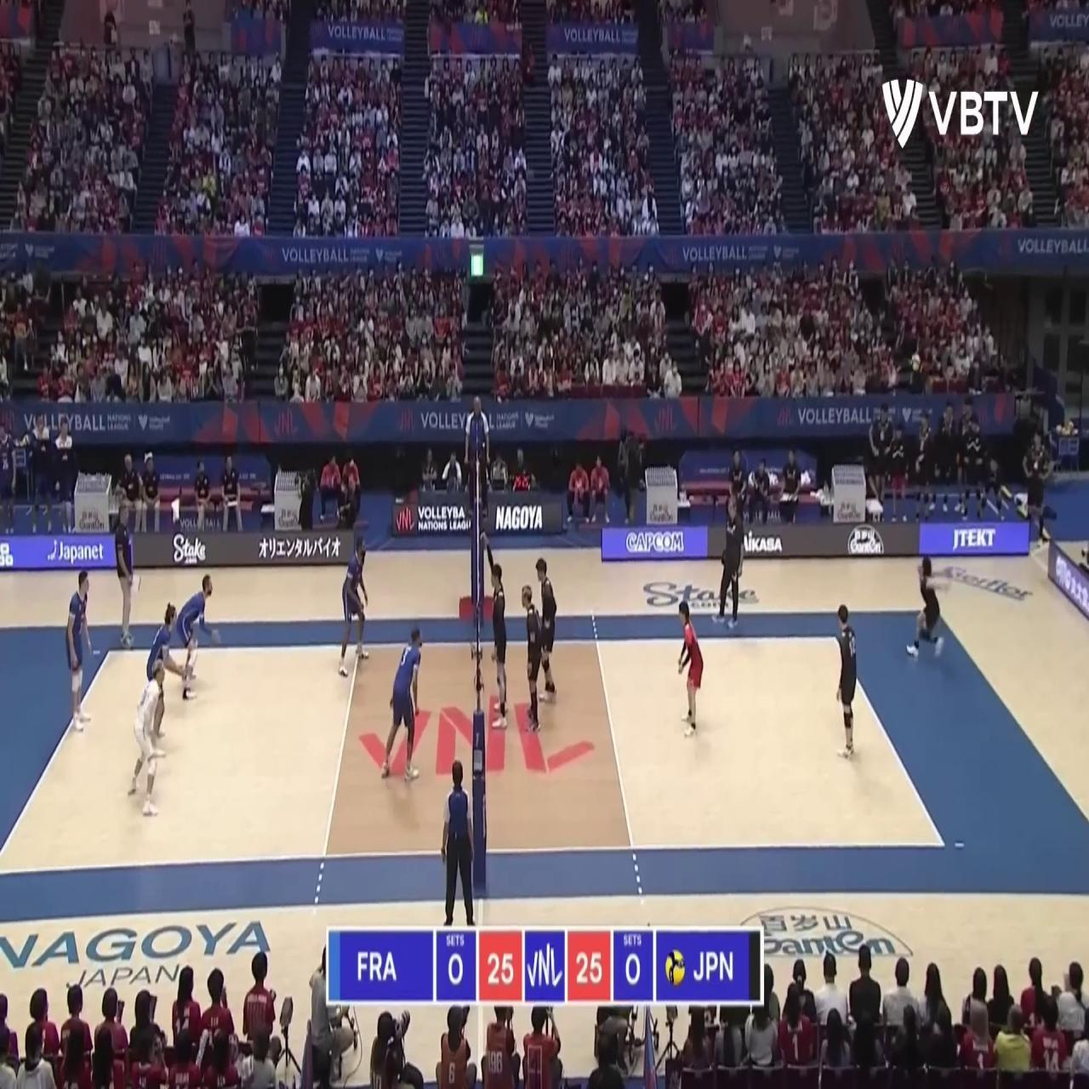ball: (910, 354, 921, 373)
